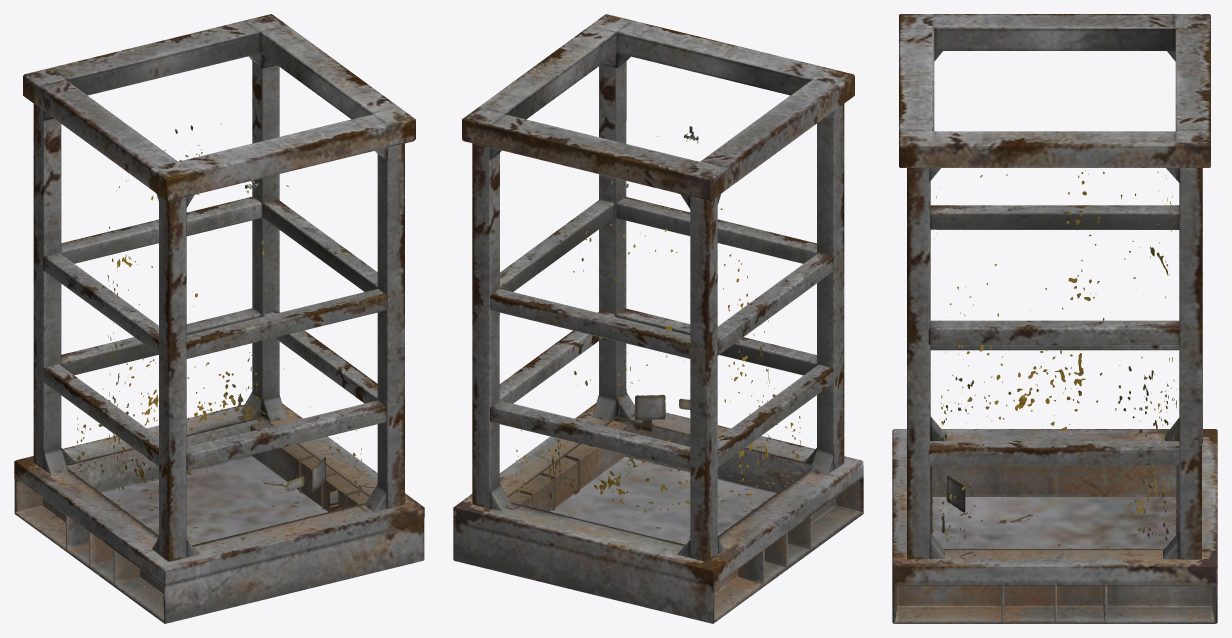
Rendered from sm22_020_unportabletank01a.fbx.
3 renders of one model, left to right at view 1: azimuth 30°, elevation 25°; view 2: azimuth 150°, elevation 25°; view 3: azimuth 270°, elevation 25°, orthographic. The views are drawn at different scales.
Parts seen in each view (by area): view 1: LOD_1_Group_3_Sub_1__sm22_020_UNPortableTank01A_A_Mat, LOD_1_Group_5_Sub_1__sm22_020_UNPortableTank01A_A_Mat, LOD_1_Group_1_Sub_1__sm22_020_UNPortableTank01A_A_Mat, LOD_1_Group_0_Sub_1__sm22_020_UNPortableTank01A_A_Mat, LOD_1_Group_2_Sub_1__sm22_020_UNPortableTank01A_A_Mat; view 2: LOD_1_Group_3_Sub_1__sm22_020_UNPortableTank01A_A_Mat, LOD_1_Group_5_Sub_1__sm22_020_UNPortableTank01A_A_Mat, LOD_1_Group_1_Sub_1__sm22_020_UNPortableTank01A_A_Mat, LOD_1_Group_0_Sub_1__sm22_020_UNPortableTank01A_A_Mat, LOD_1_Group_2_Sub_1__sm22_020_UNPortableTank01A_A_Mat; view 3: LOD_1_Group_3_Sub_1__sm22_020_UNPortableTank01A_A_Mat, LOD_1_Group_0_Sub_1__sm22_020_UNPortableTank01A_A_Mat, LOD_1_Group_1_Sub_1__sm22_020_UNPortableTank01A_A_Mat, LOD_1_Group_5_Sub_1__sm22_020_UNPortableTank01A_A_Mat, LOD_1_Group_2_Sub_1__sm22_020_UNPortableTank01A_A_Mat, LOD_1_Group_4_Sub_1__sm22_020_UNPortableTank01A_A_Mat.
Part boxes in pixels (x1=…): LOD_1_Group_3_Sub_1__sm22_020_UNPortableTank01A_A_Mat: x1=14, y1=403, x2=424, y2=623; LOD_1_Group_5_Sub_1__sm22_020_UNPortableTank01A_A_Mat: x1=33, y1=53, x2=404, y2=561; LOD_1_Group_1_Sub_1__sm22_020_UNPortableTank01A_A_Mat: x1=43, y1=196, x2=386, y2=470; LOD_1_Group_0_Sub_1__sm22_020_UNPortableTank01A_A_Mat: x1=23, y1=14, x2=415, y2=201; LOD_1_Group_2_Sub_1__sm22_020_UNPortableTank01A_A_Mat: x1=107, y1=123, x2=325, y2=519; LOD_1_Group_3_Sub_1__sm22_020_UNPortableTank01A_A_Mat: x1=453, y1=403, x2=863, y2=623; LOD_1_Group_5_Sub_1__sm22_020_UNPortableTank01A_A_Mat: x1=472, y1=53, x2=844, y2=561; LOD_1_Group_1_Sub_1__sm22_020_UNPortableTank01A_A_Mat: x1=490, y1=197, x2=833, y2=470; LOD_1_Group_0_Sub_1__sm22_020_UNPortableTank01A_A_Mat: x1=462, y1=14, x2=854, y2=201; LOD_1_Group_2_Sub_1__sm22_020_UNPortableTank01A_A_Mat: x1=548, y1=136, x2=770, y2=515; LOD_1_Group_3_Sub_1__sm22_020_UNPortableTank01A_A_Mat: x1=892, y1=429, x2=1217, y2=623; LOD_1_Group_0_Sub_1__sm22_020_UNPortableTank01A_A_Mat: x1=899, y1=14, x2=1210, y2=167; LOD_1_Group_1_Sub_1__sm22_020_UNPortableTank01A_A_Mat: x1=928, y1=205, x2=1179, y2=465; LOD_1_Group_5_Sub_1__sm22_020_UNPortableTank01A_A_Mat: x1=907, y1=51, x2=1202, y2=559; LOD_1_Group_2_Sub_1__sm22_020_UNPortableTank01A_A_Mat: x1=934, y1=170, x2=1176, y2=537; LOD_1_Group_4_Sub_1__sm22_020_UNPortableTank01A_A_Mat: x1=941, y1=129, x2=1168, y2=544.
Size of the model in its own units: 0.66 by 1.07 by 0.66.
